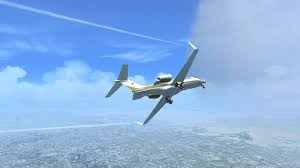maybay_dansu: (98, 36, 209, 126)
